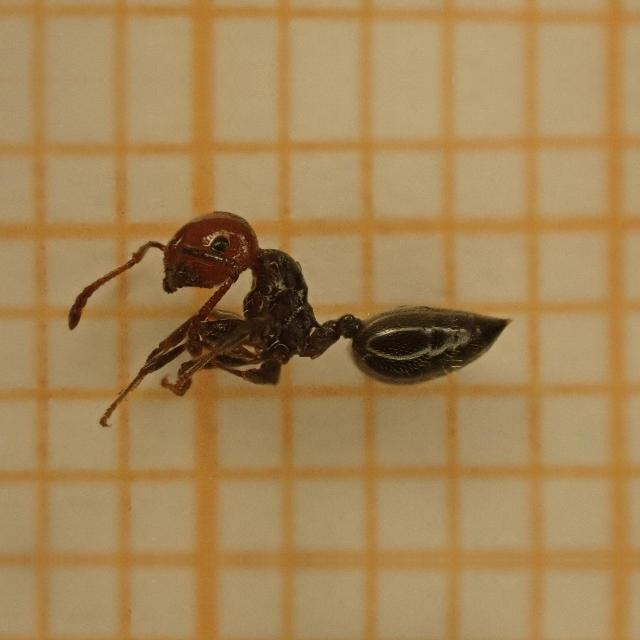Crematogaster: (83, 186, 520, 422)
